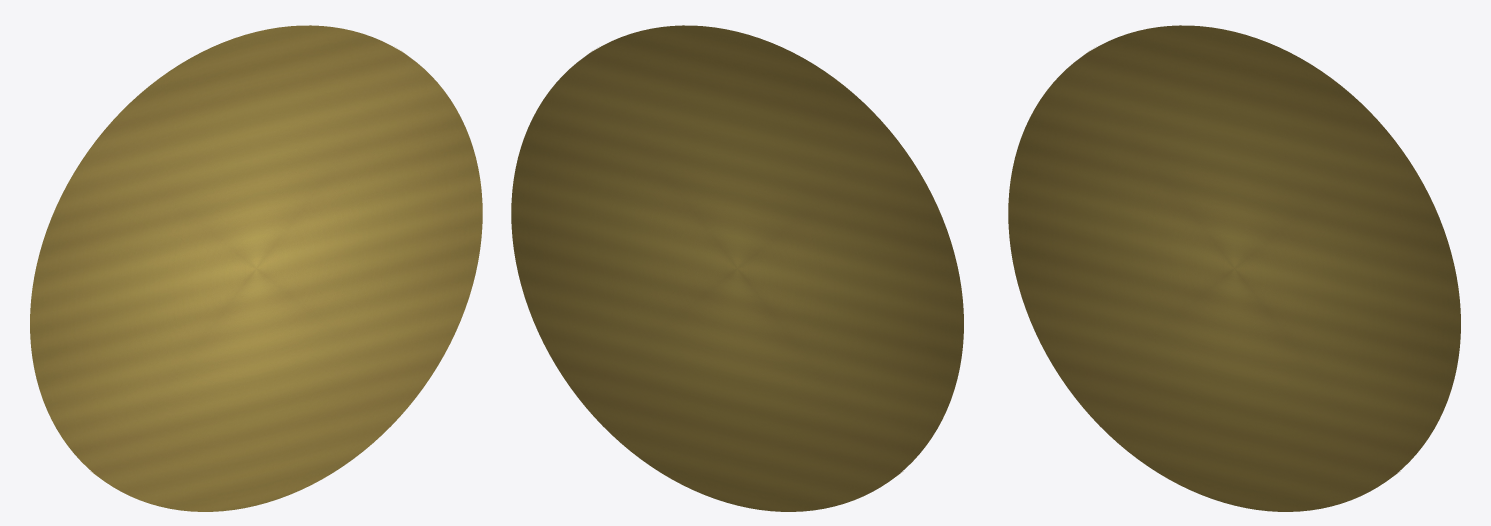
File: prana_mock_coin1.glb
The picture shows the model from 3 angles, left to right: view 1: azimuth 30°, elevation 25°; view 2: azimuth 150°, elevation 25°; view 3: azimuth 330°, elevation 25°; orthographic projection.
Visible parts, largest first — view 1: CoinNode; view 2: CoinNode; view 3: CoinNode.
Part boxes in pixels (x1,y1,x2,y2): CoinNode: [30, 25, 482, 511]; CoinNode: [511, 25, 963, 511]; CoinNode: [1008, 25, 1460, 511].
Size of the model in its own units: 2 by 2 by 0.12.
Materials: 1 (1 with a texture image).
